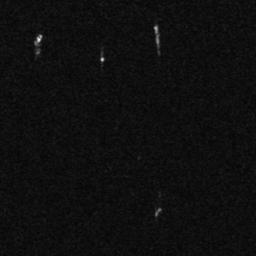ship: (154, 206, 163, 217)
